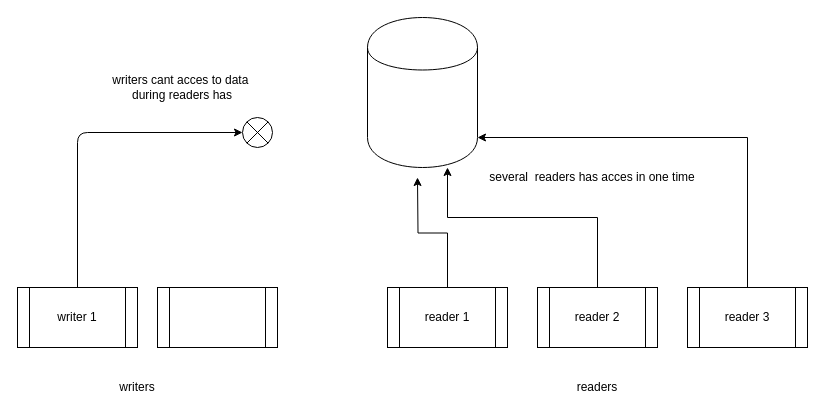
The diagram is 825 pixels wide and 415 high, and some of its shapes have lost their labels. The shapes that lost their labels are listed below. From the top down, each one's centre as x and y in pixels, then its label:
At (422,92): "shared data".
At (217,317): "writer 2".
